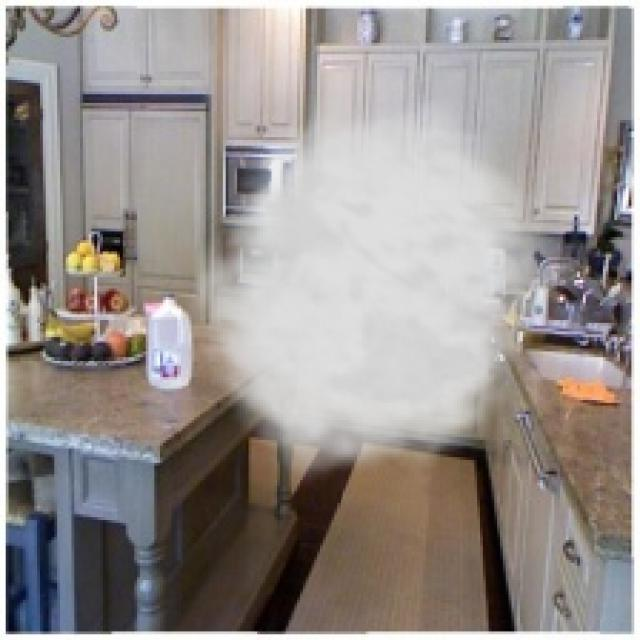smoke: (180, 94, 569, 492)
